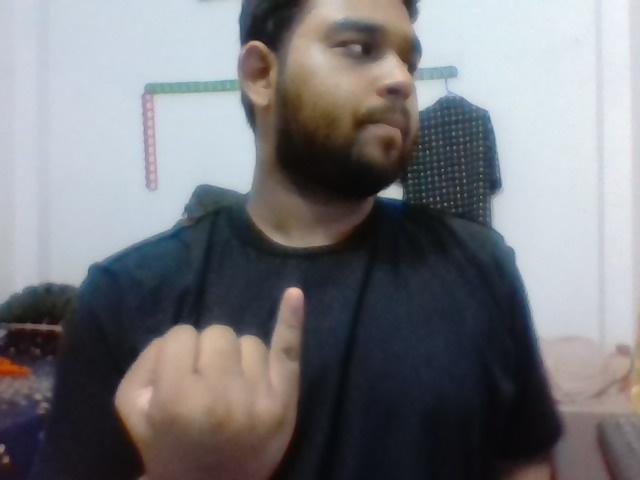I: (105, 275, 316, 479)
